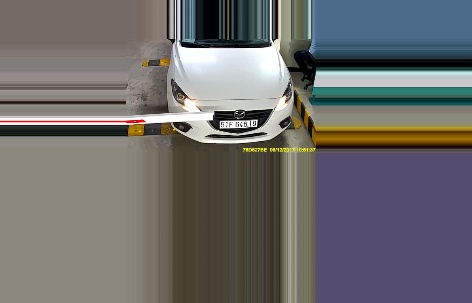plate: (218, 116, 259, 132)
